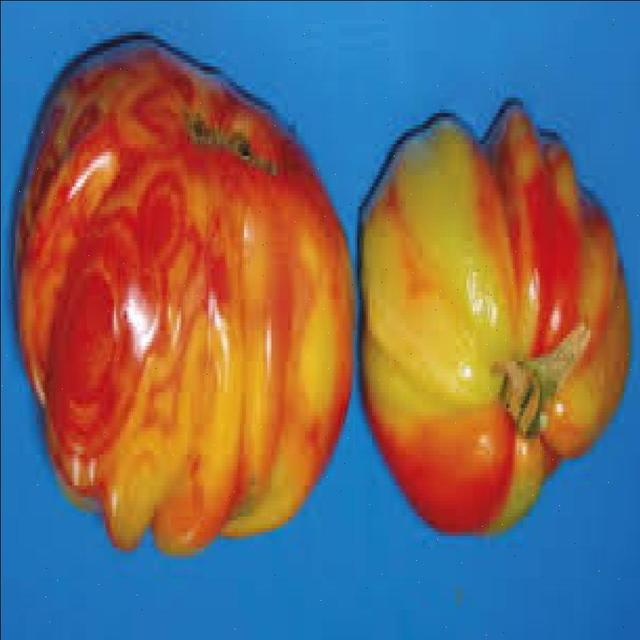Spotted wilt Virus Fruit: (11, 67, 333, 230)
